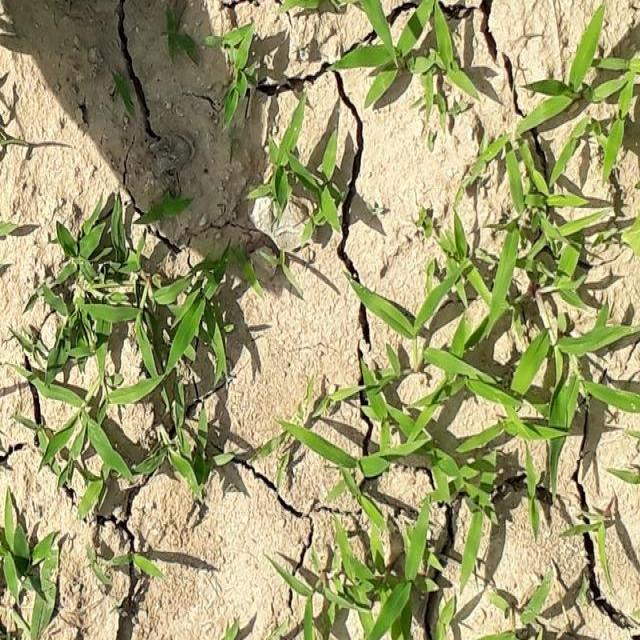weed: (400, 11, 640, 632), (30, 180, 218, 542)
